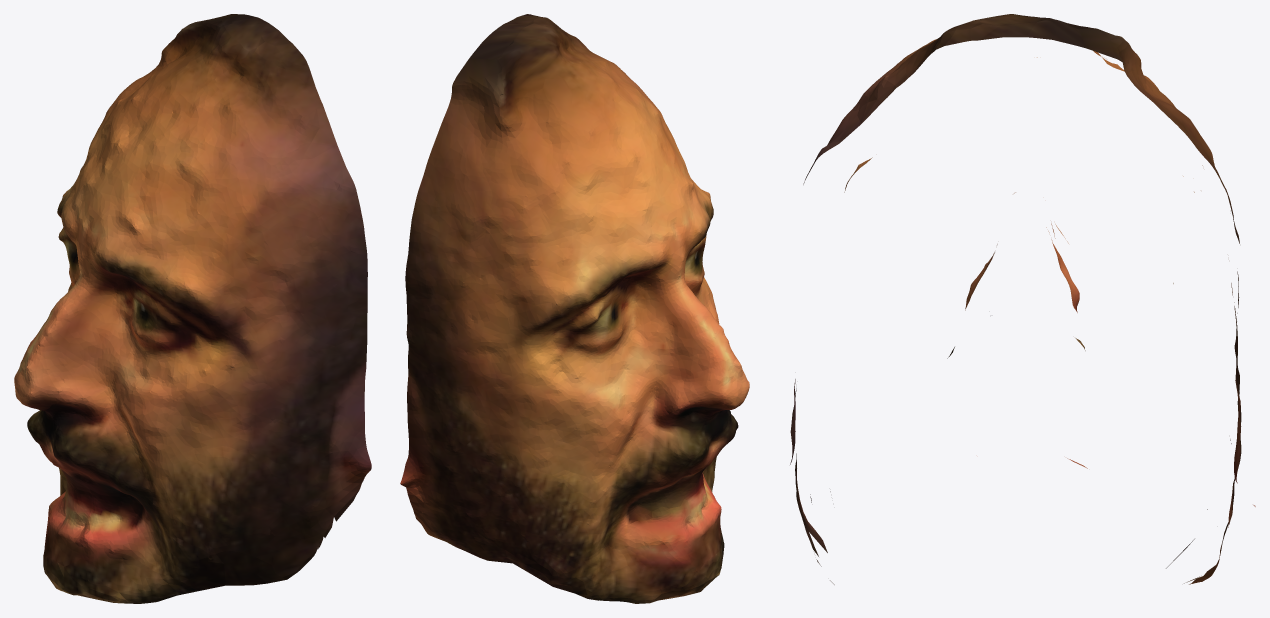
Rendered from Faccia 1 comp.glb.
The picture shows the model from 3 angles, left to right: view 1: azimuth 30°, elevation 25°; view 2: azimuth 150°, elevation 25°; view 3: azimuth 270°, elevation 25°; orthographic projection. The views are drawn at different scales.
Visible parts, largest first — view 1: mesh.001; view 2: mesh.001; view 3: mesh.001.
Part boxes in pixels (<box>): mesh.001: <box>14,14,371,603</box>; mesh.001: <box>400,14,749,603</box>; mesh.001: <box>790,14,1255,584</box>.
Bounding box in the file's own units: 0.1042 × 0.2089 × 0.142.
1 material, 1 textured.
